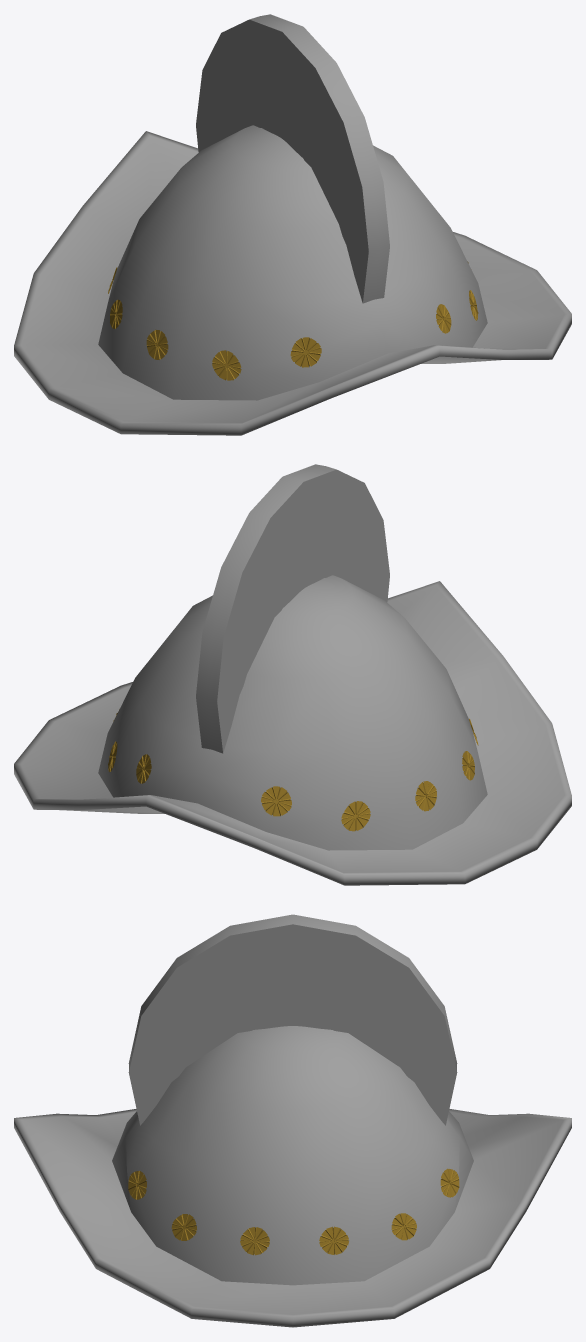
The model's file is CascoDeColono.fbx.
The picture shows the model from 3 angles, top to bottom: view 1: azimuth 30°, elevation 25°; view 2: azimuth 150°, elevation 25°; view 3: azimuth 270°, elevation 25°; orthographic projection. The views are drawn at different scales.
Parts seen in each view (by area): view 1: Cabezal, Cresta, FloresMetalCopia; view 2: Cabezal, Cresta, FloresMetalCopia; view 3: Cabezal, Cresta, FloresMetalCopia.
Boxes of the visible parts, x1,y1,x2,y2 form: Cabezal: (14, 125, 571, 435); Cresta: (196, 14, 389, 303); FloresMetalCopia: (108, 261, 478, 380); Cabezal: (14, 575, 571, 885); Cresta: (196, 464, 389, 753); FloresMetalCopia: (108, 709, 478, 831); Cabezal: (14, 1026, 571, 1327); Cresta: (128, 914, 457, 1125); FloresMetalCopia: (128, 1168, 459, 1255).
Size of the model in its own units: 287 by 177 by 299.
